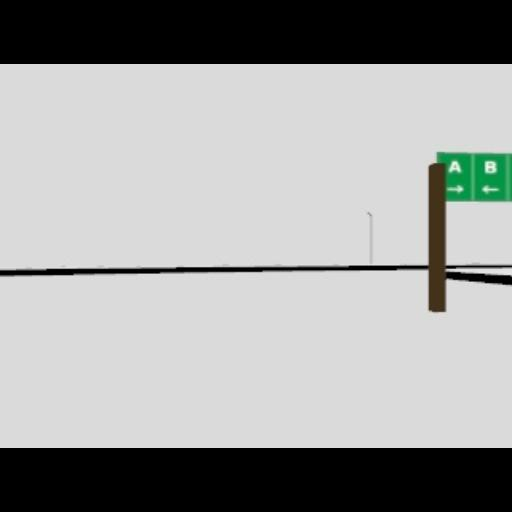A: (446, 159, 462, 173)
B: (484, 160, 496, 172)
Left: (482, 185, 500, 195)
Right: (447, 186, 465, 194)
